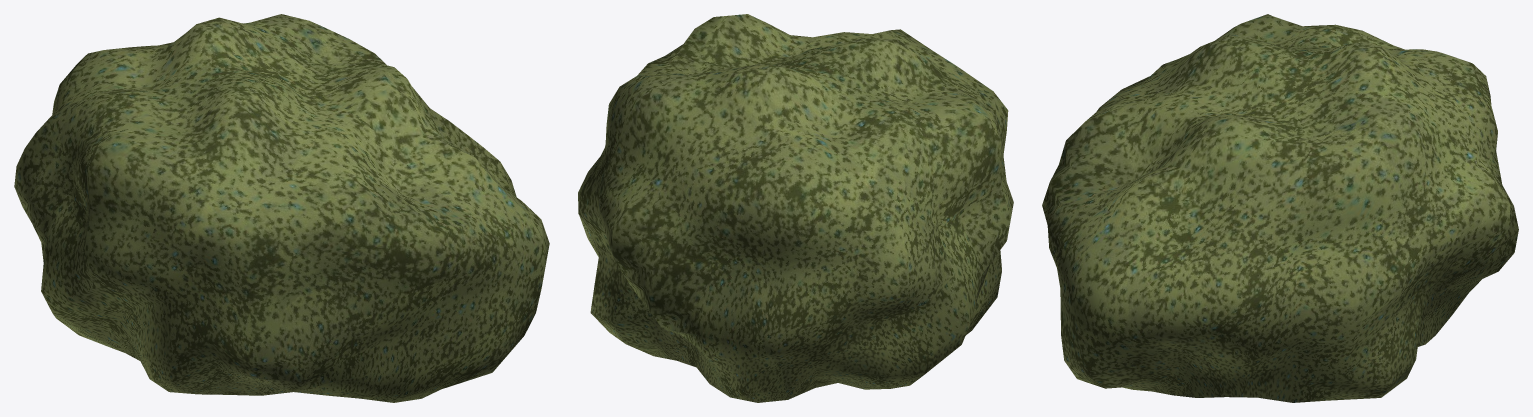
File: 10-BLD.fbx
The picture shows the model from 3 angles, left to right: view 1: azimuth 30°, elevation 25°; view 2: azimuth 150°, elevation 25°; view 3: azimuth 270°, elevation 25°; orthographic projection. The views are drawn at different scales.
Visible parts, largest first — view 1: 10-BLD_LOD00; view 2: 10-BLD_LOD00; view 3: 10-BLD_LOD00.
Part boxes in pixels (x1,y1,x2,y2): 10-BLD_LOD00: (14,14,549,402); 10-BLD_LOD00: (578,14,1013,402); 10-BLD_LOD00: (1042,14,1518,402).
Size of what is drawn, in the model's own units: 188 by 134 by 196.
